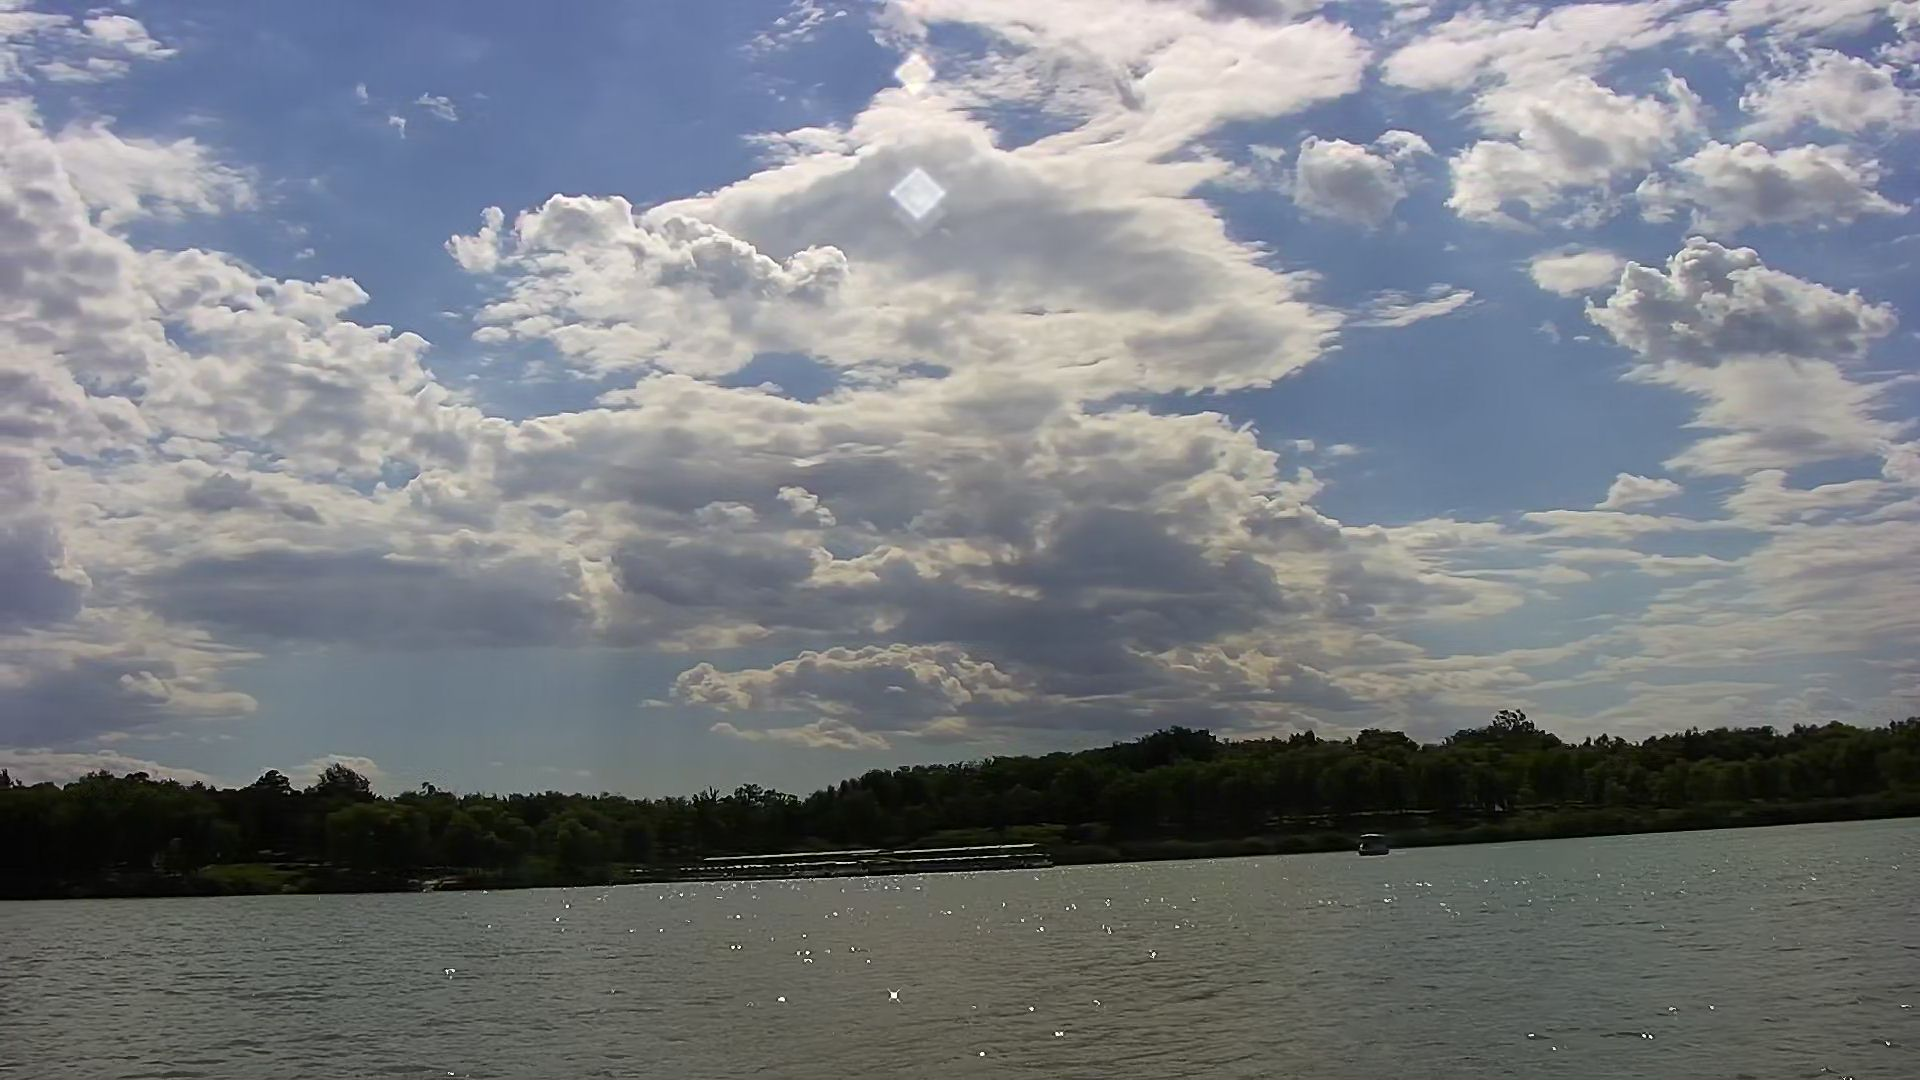boat: (1353, 825, 1393, 860)
harbor: (683, 844, 1056, 878)
